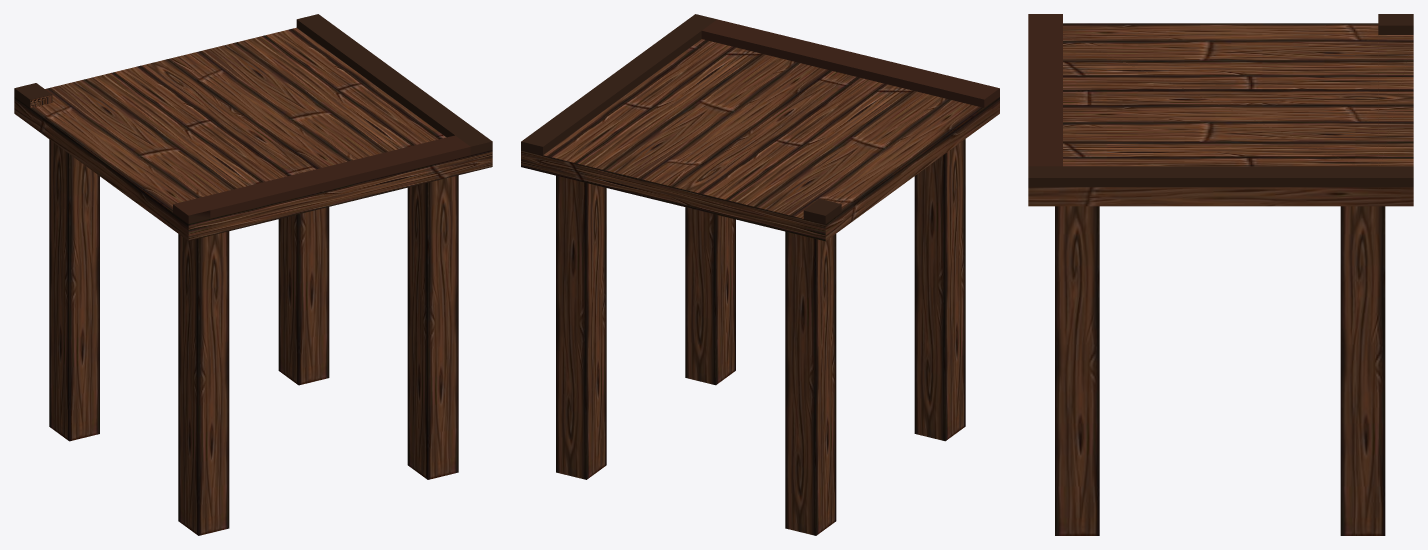
The model's file is Harbor Floor 2.fbx.
3 views of the same model, side by side, from view 1: azimuth 30°, elevation 25°; view 2: azimuth 150°, elevation 25°; view 3: azimuth 270°, elevation 25° (orthographic). The views are drawn at different scales.
Parts seen in each view (by area): view 1: pasted__polySurface5; view 2: pasted__polySurface5; view 3: pasted__polySurface5.
Part boxes in pixels (bbox=[...]): pasted__polySurface5: bbox=[14, 14, 492, 535]; pasted__polySurface5: bbox=[521, 14, 999, 535]; pasted__polySurface5: bbox=[1028, 14, 1413, 535].
Size of the model in its own units: 6.03 by 6.34 by 5.98.
Materials: 1 (1 with a texture image).
